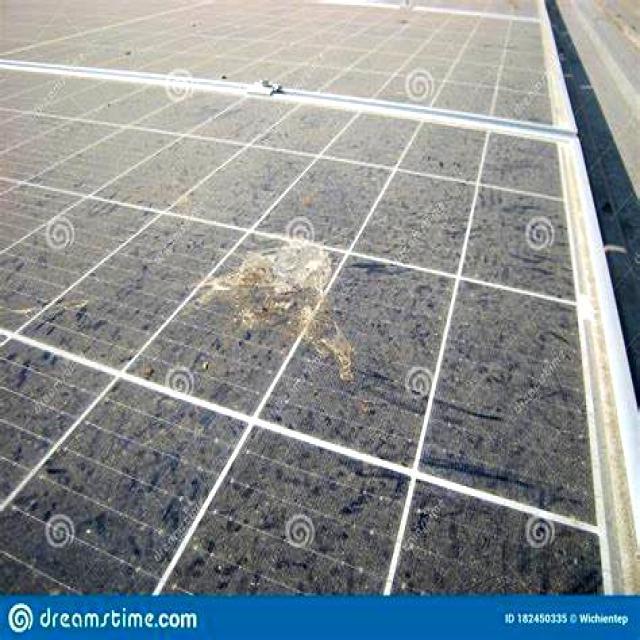bird: (180, 224, 388, 391)
